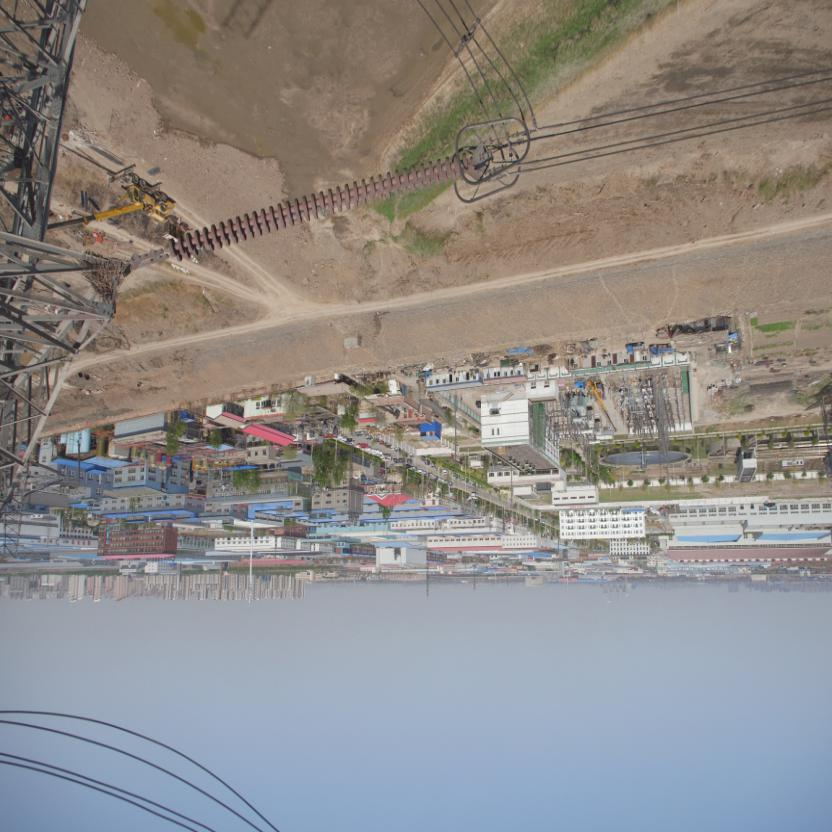insulator: (147, 151, 471, 267)
